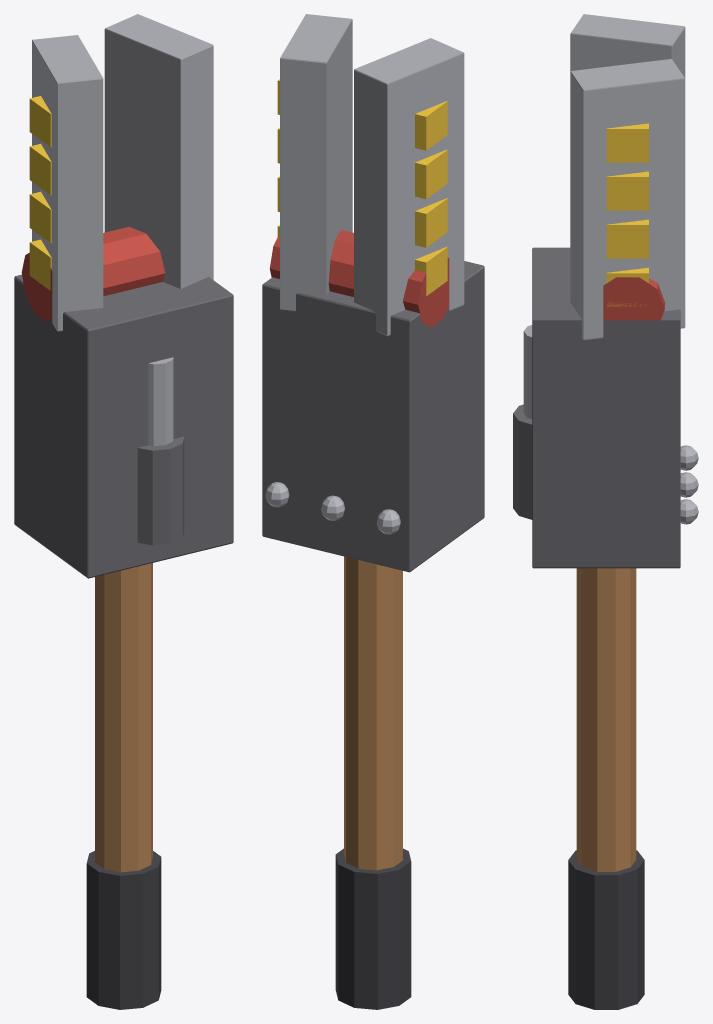
File: weapon-bruiser2.glb
3 renders of one model, left to right at view 1: azimuth 30°, elevation 25°; view 2: azimuth 150°, elevation 25°; view 3: azimuth 270°, elevation 25°, orthographic.
Parts seen in each view (by area): view 1: housing, jaw0.05, haft, jaw-0.05, grip, sleeve, pivot, rod, tooth-0.05_2, tooth-0.05_3, tooth-0.05_1, tooth-0.05_0; view 2: housing, jaw-0.05, jaw0.05, haft, grip, pivot, tooth-0.05_2, tooth-0.05_1, tooth-0.05_3, tooth-0.05_0; view 3: housing, jaw0.05, haft, grip, jaw-0.05, pivot, sleeve, tooth0.05_3, tooth0.05_2, tooth0.05_1, rod, tooth0.05_0.
Boxes of the visible parts, <box> form: housing: <box>14,274,233,578</box>; jaw0.05: <box>104,14,213,288</box>; haft: <box>95,563,152,872</box>; jaw-0.05: <box>32,35,103,331</box>; grip: <box>86,851,161,1009</box>; sleeve: <box>137,436,184,545</box>; pivot: <box>21,226,165,321</box>; rod: <box>148,357,173,446</box>; tooth-0.05_2: <box>29,143,51,195</box>; tooth-0.05_3: <box>29,96,51,147</box>; tooth-0.05_1: <box>29,191,51,242</box>; tooth-0.05_0: <box>29,239,51,290</box>; housing: <box>262,261,484,572</box>; jaw-0.05: <box>354,38,464,336</box>; jaw0.05: <box>280,14,352,311</box>; haft: <box>344,556,402,870</box>; grip: <box>335,848,411,1009</box>; pivot: <box>269,229,449,327</box>; tooth-0.05_2: <box>415,149,447,199</box>; tooth-0.05_1: <box>415,198,447,247</box>; tooth-0.05_3: <box>415,101,447,150</box>; tooth-0.05_0: <box>415,246,447,295</box>; housing: <box>532,247,680,568</box>; jaw0.05: <box>570,59,685,340</box>; haft: <box>576,568,636,871</box>; grip: <box>568,850,644,1009</box>; jaw-0.05: <box>570,14,685,78</box>; pivot: <box>603,277,664,320</box>; sleeve: <box>513,404,532,519</box>; tooth0.05_3: <box>606,123,648,162</box>; tooth0.05_2: <box>606,171,648,210</box>; tooth0.05_1: <box>606,219,648,258</box>; rod: <box>523,325,532,419</box>; tooth0.05_0: <box>606,267,648,306</box>.
Size of the model in its own units: 0.1707 by 0.98 by 0.175.
